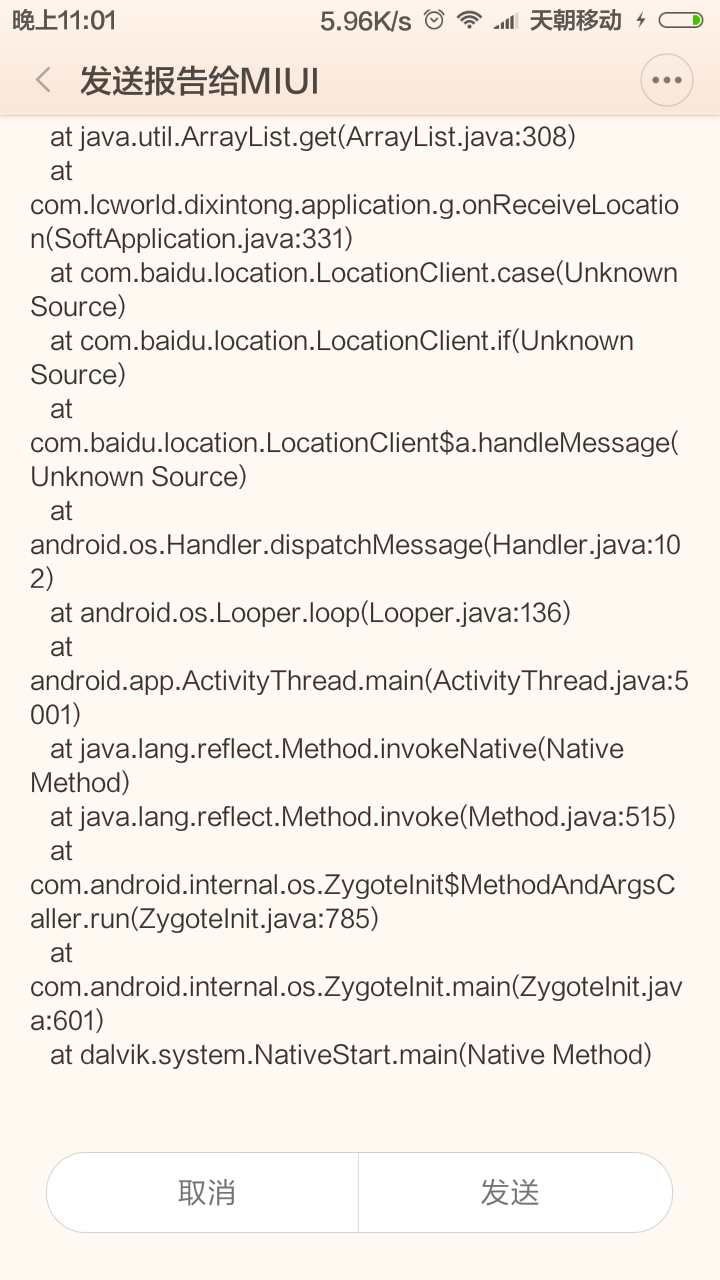button: (36, 1144, 686, 1241)
